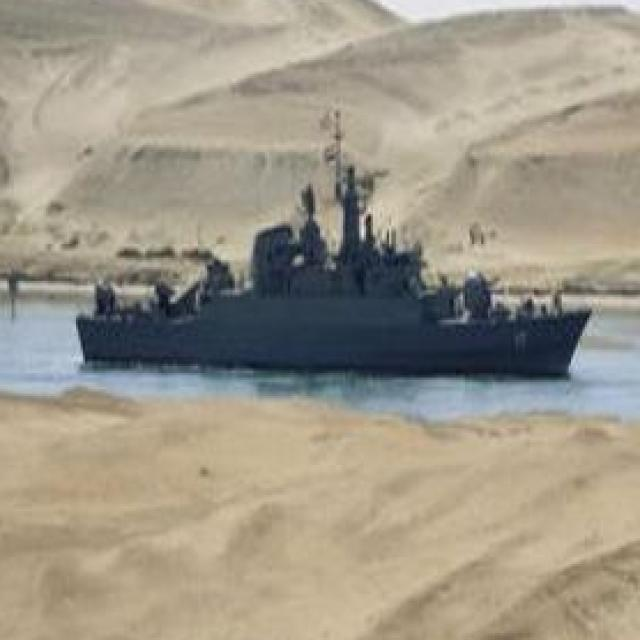navalvessels: (60, 150, 596, 366)
